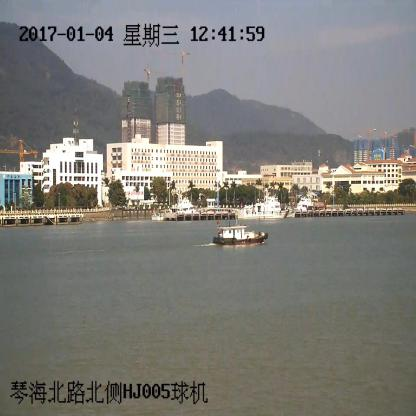Fishing Boat: (215, 222, 268, 246)
